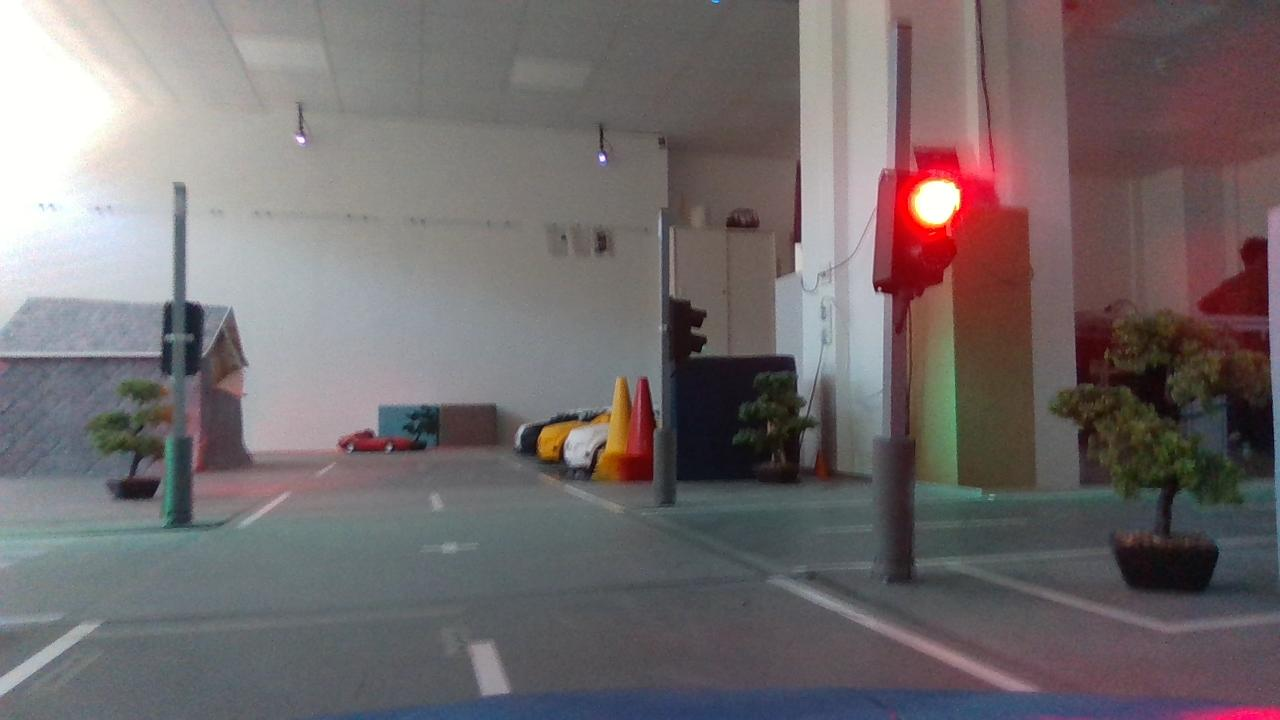traffic_light_red: (852, 154, 977, 323)
